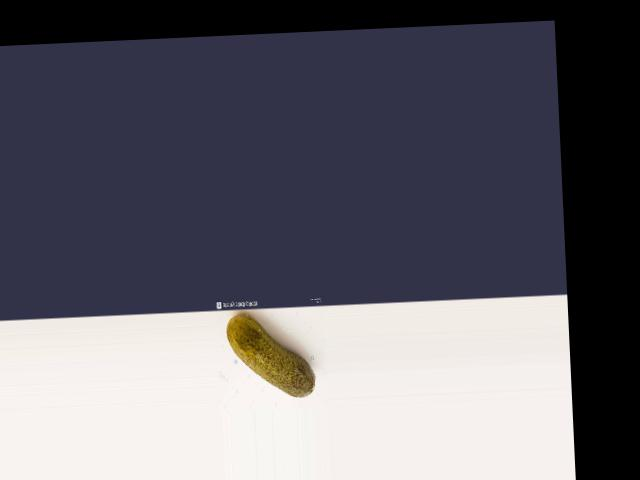cucumber: (225, 310, 316, 399)
